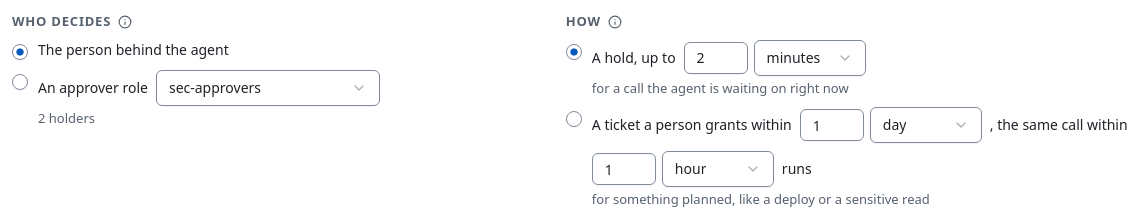
Test: the approval choice › stores windows in seconds and picks the branch whose window is typed
Replace the text in the number field named "A ticket a person grants within" with "3" at (832, 125), box x1=800 y1=109 x2=864 y2=141
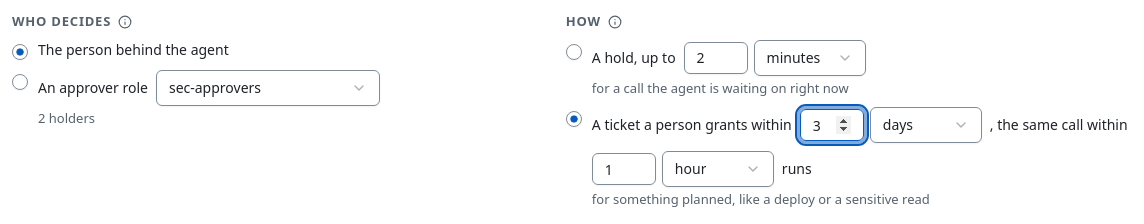
Click the radio button named "A hold, up to" at (574, 52), box x1=566 y1=44 x2=582 y2=60
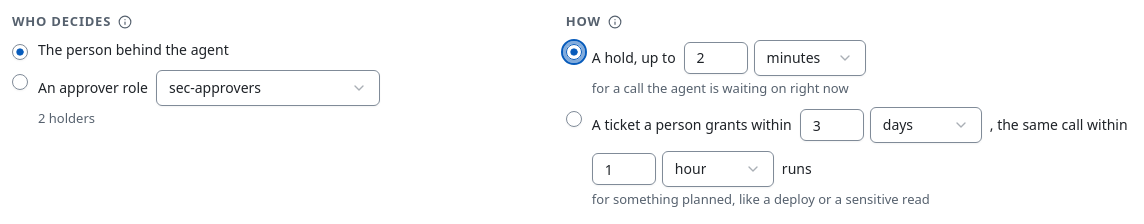
Replace the text in the number field named "A hold, up to" with "90" at (716, 58), box x1=684 y1=42 x2=748 y2=74
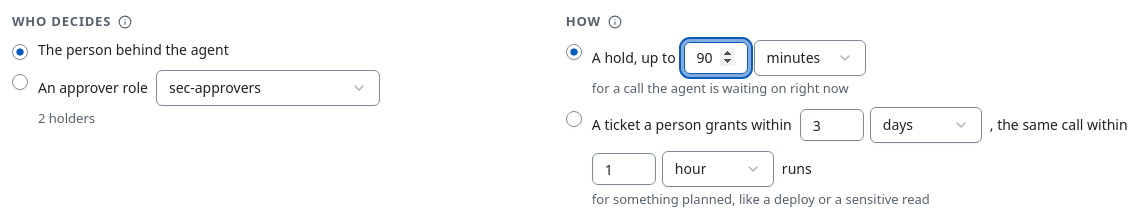
Click the dropdown labelled "minutes" at (810, 58), box x1=754 y1=40 x2=866 y2=76
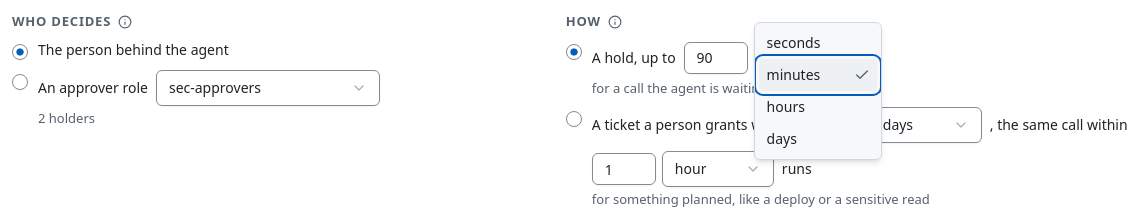
Click the option "seconds" at (794, 42), box x1=767 y1=33 x2=820 y2=52
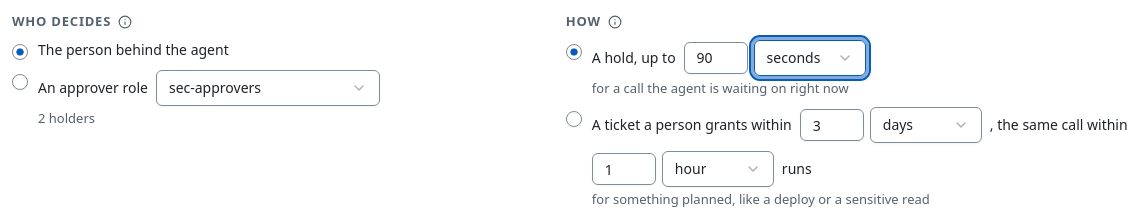
Now the text "seconds" is shown, box x1=767 y1=48 x2=820 y2=68
